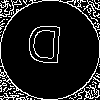D: (25, 25, 63, 73)
